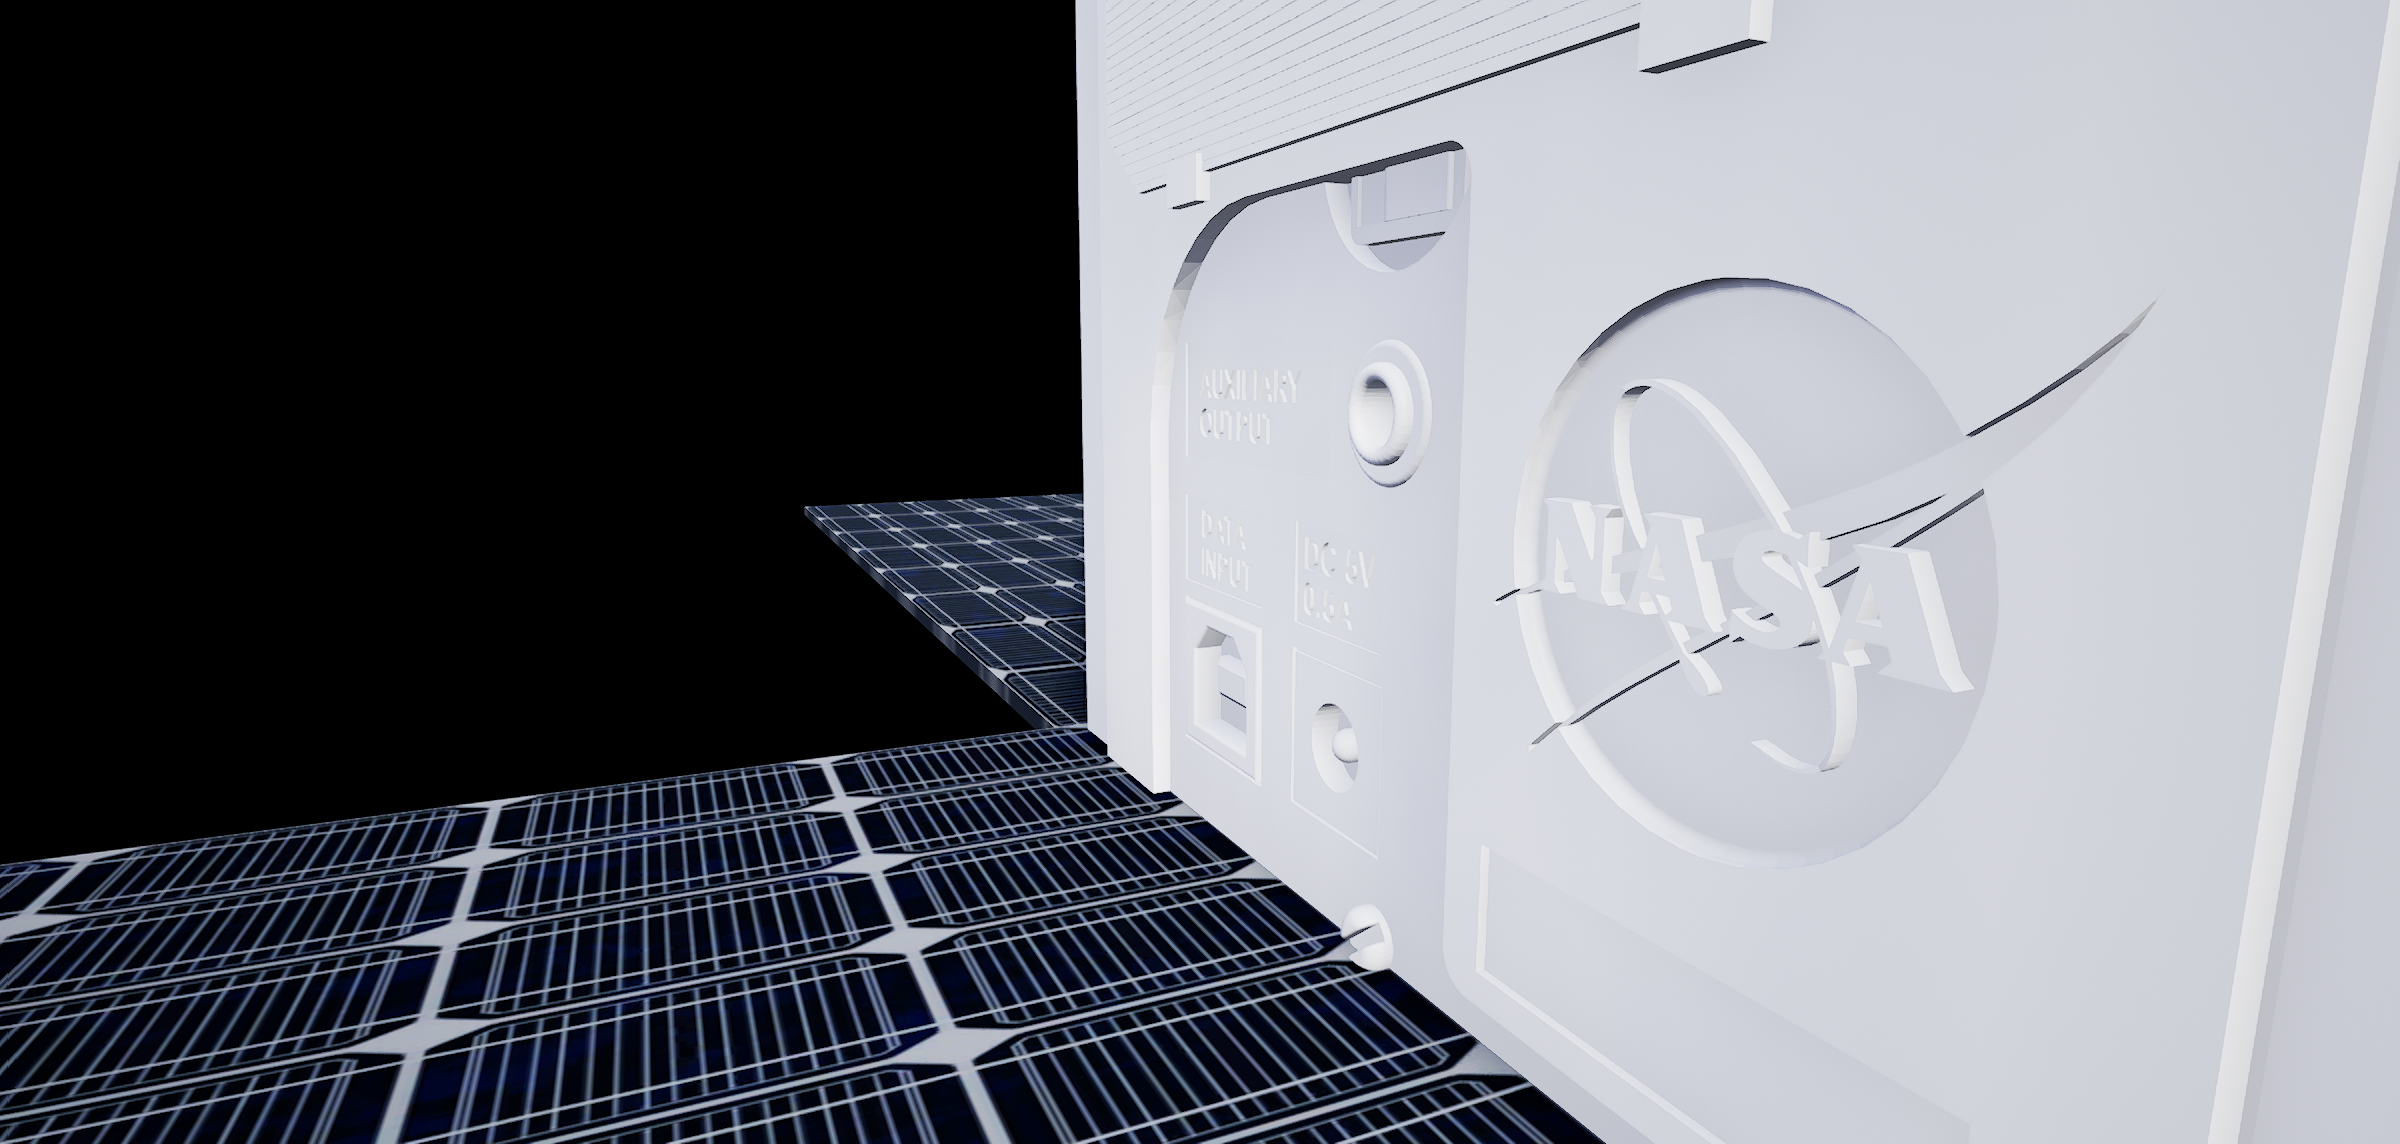aux: (1338, 329, 1439, 502)
dc: (1303, 694, 1367, 806)
usb: (1189, 613, 1258, 757)
